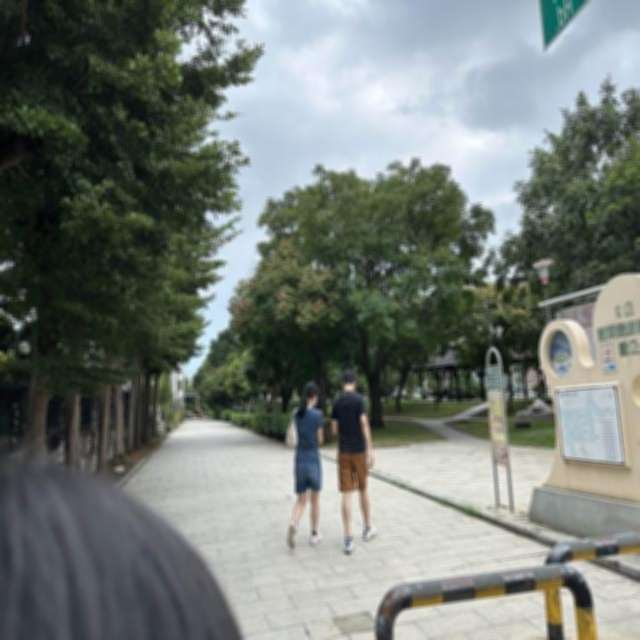Sin_Casco_Mascarrilla: (304, 381, 320, 403), (343, 368, 356, 388)
Sin_Chaleco: (337, 392, 363, 451), (295, 408, 321, 460)
